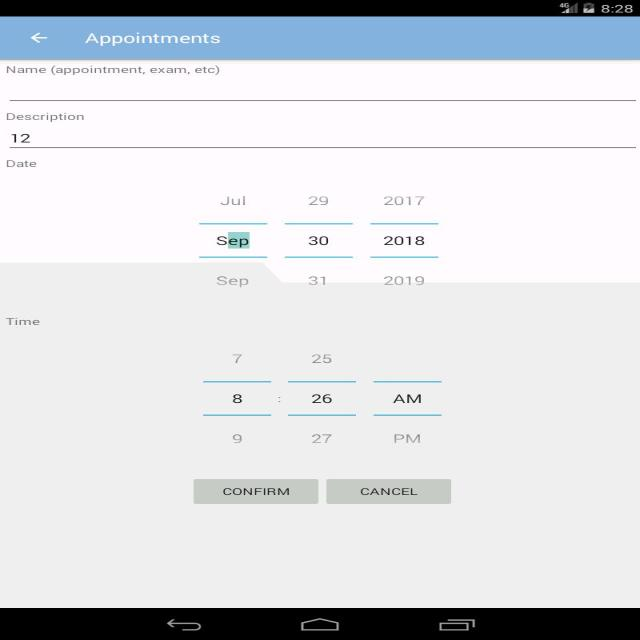button: (202, 380, 447, 416), (194, 225, 446, 257), (192, 480, 319, 505), (328, 480, 452, 505), (27, 28, 63, 51)
field: (3, 104, 637, 147), (5, 62, 637, 100)
heading: (78, 30, 234, 49)
label: (7, 64, 225, 76), (8, 109, 94, 121), (0, 156, 50, 174), (0, 314, 46, 327)
